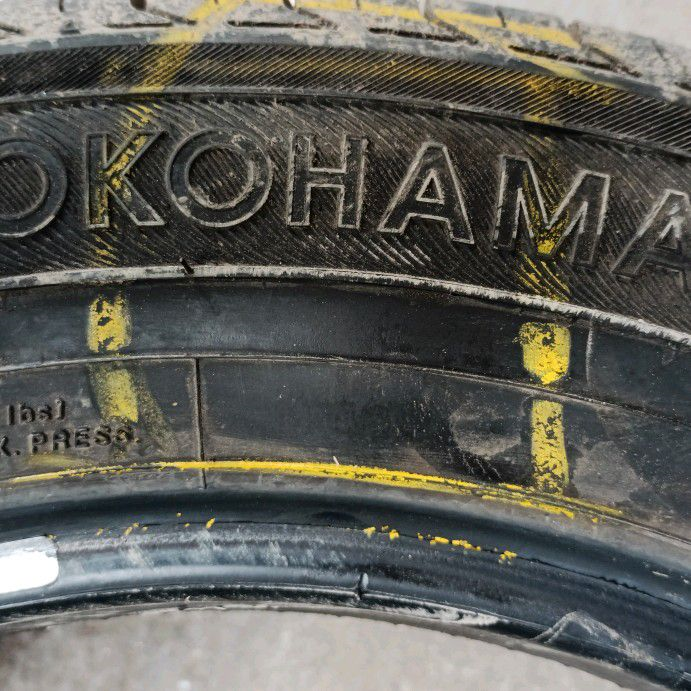CBU: (170, 146, 489, 409)
